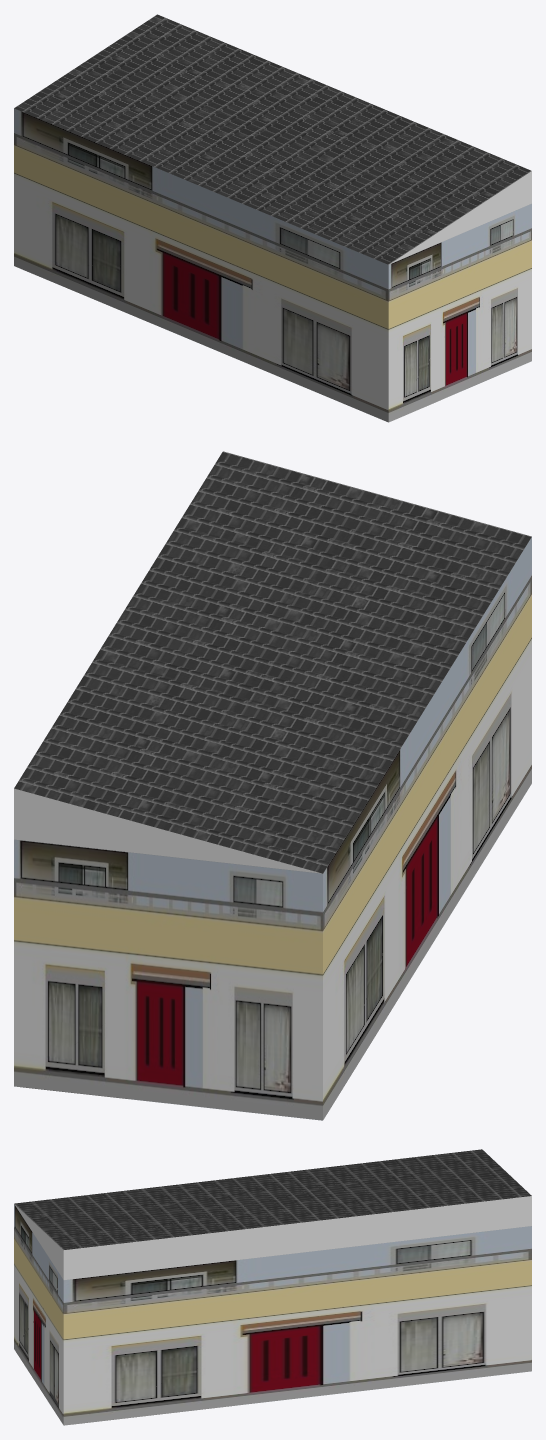
3 renders of one model, top to bottom at view 1: azimuth 30°, elevation 25°; view 2: azimuth 150°, elevation 25°; view 3: azimuth 270°, elevation 25°, orthographic. The views are drawn at different scales.
Visible parts, largest first — view 1: CityEngineMaterial_15_m, CityEngineMaterial_16_m, CityEngineMaterial_3_m; view 2: CityEngineMaterial_15_m, CityEngineMaterial_16_m, CityEngineMaterial_3_m; view 3: CityEngineMaterial_15_m, CityEngineMaterial_16_m, CityEngineMaterial_3_m.
Boxes of the visible parts, x1,y1,x2,y2 form: CityEngineMaterial_15_m: (14, 108, 531, 422); CityEngineMaterial_16_m: (14, 14, 531, 264); CityEngineMaterial_3_m: (389, 171, 531, 264); CityEngineMaterial_15_m: (14, 537, 531, 1120); CityEngineMaterial_16_m: (14, 451, 531, 873); CityEngineMaterial_3_m: (14, 788, 321, 873); CityEngineMaterial_15_m: (14, 1204, 531, 1425); CityEngineMaterial_16_m: (14, 1149, 531, 1249); CityEngineMaterial_3_m: (14, 1196, 531, 1279).
Bounding box in the file's own units: 16.33 × 10.21 × 27.32.
